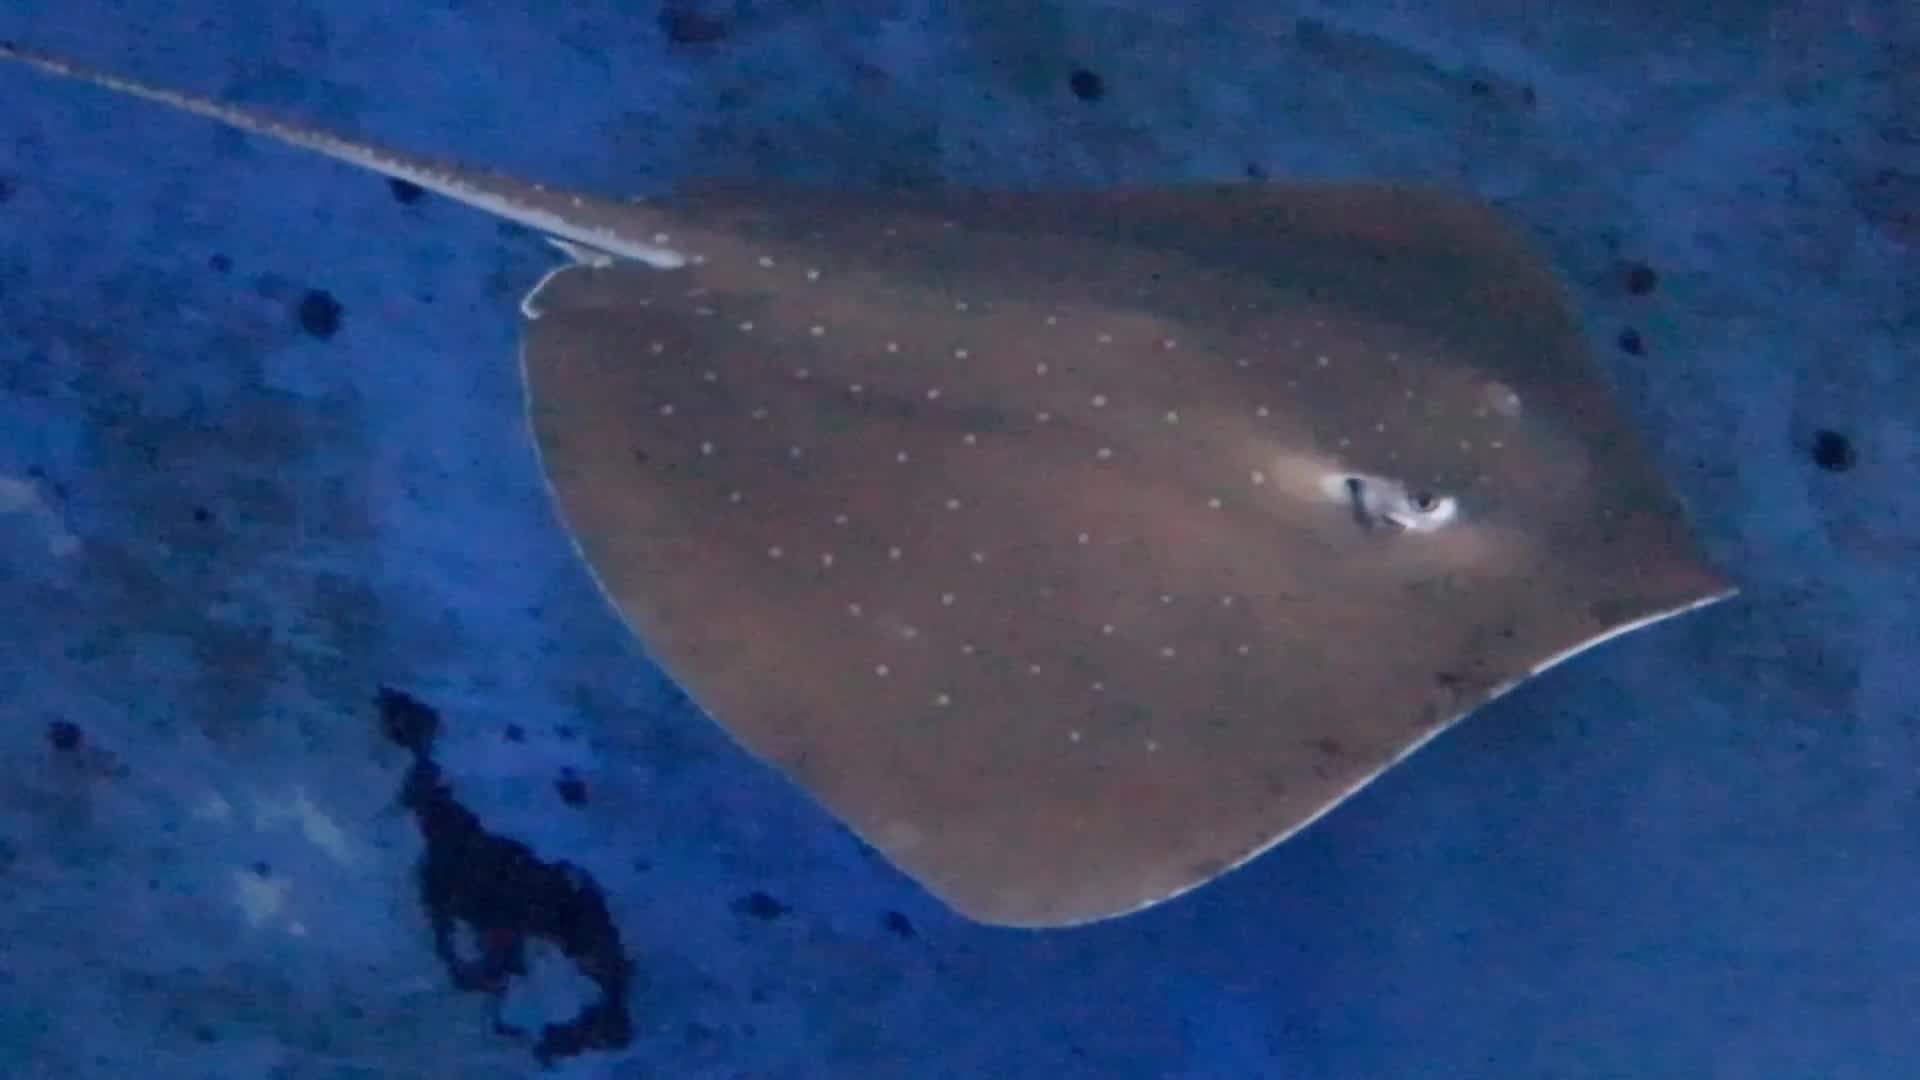Himantura gerrardi: (13, 20, 1749, 932)
